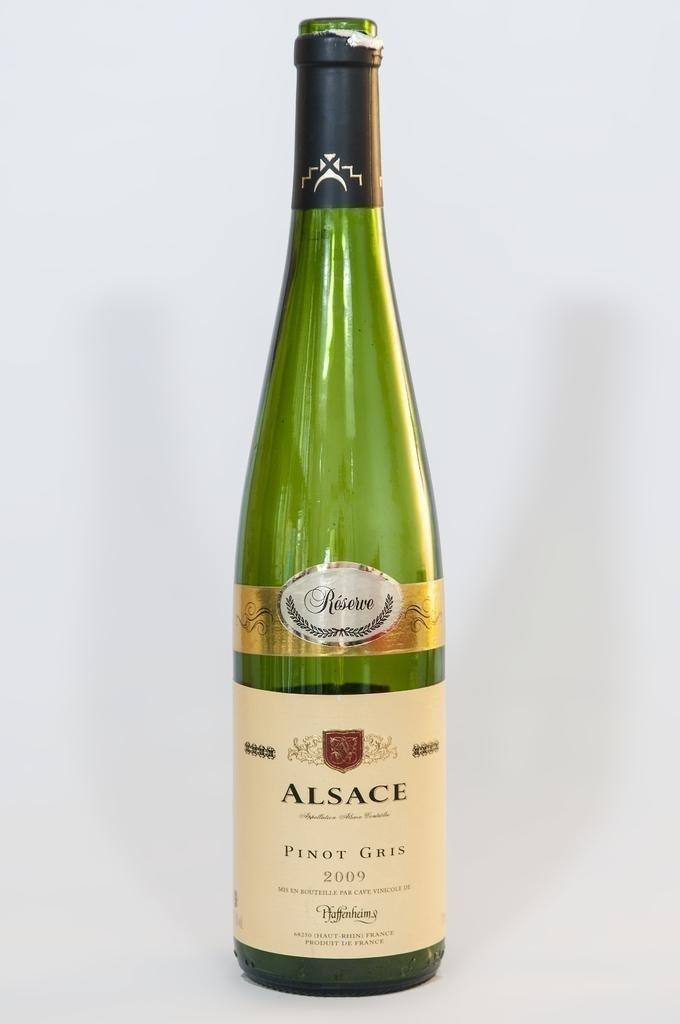bottle-glass: (233, 19, 448, 997)
